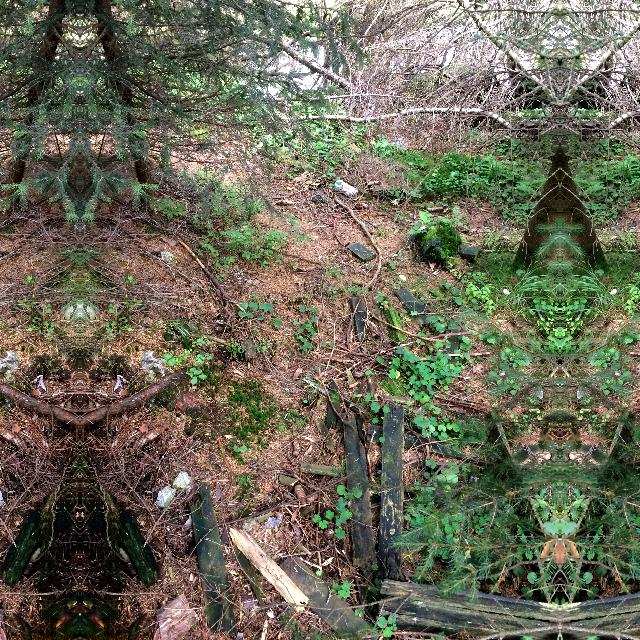Metal: (333, 178, 361, 200)
